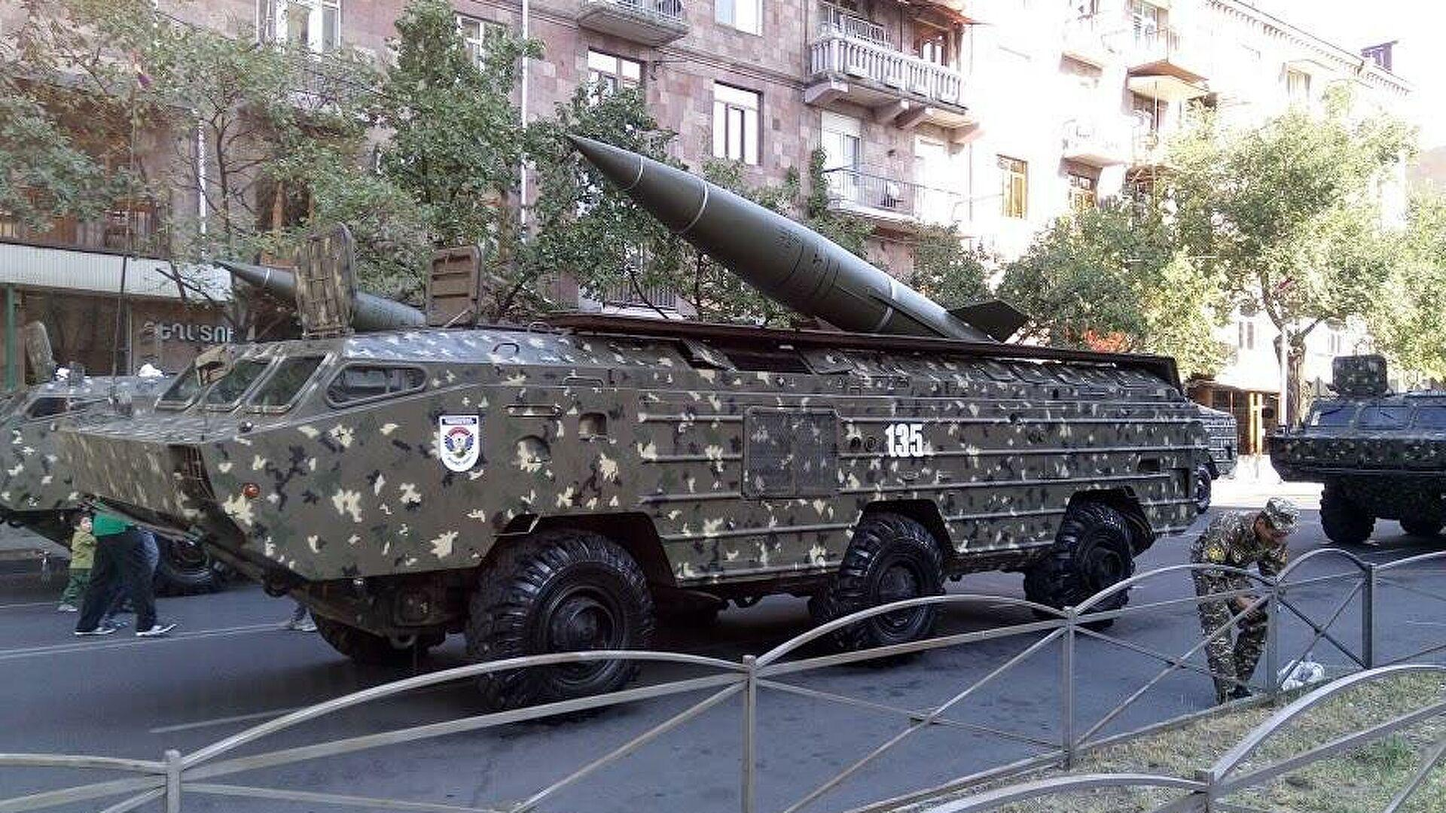rszo: (78, 320, 1215, 629), (1272, 357, 1446, 564)
